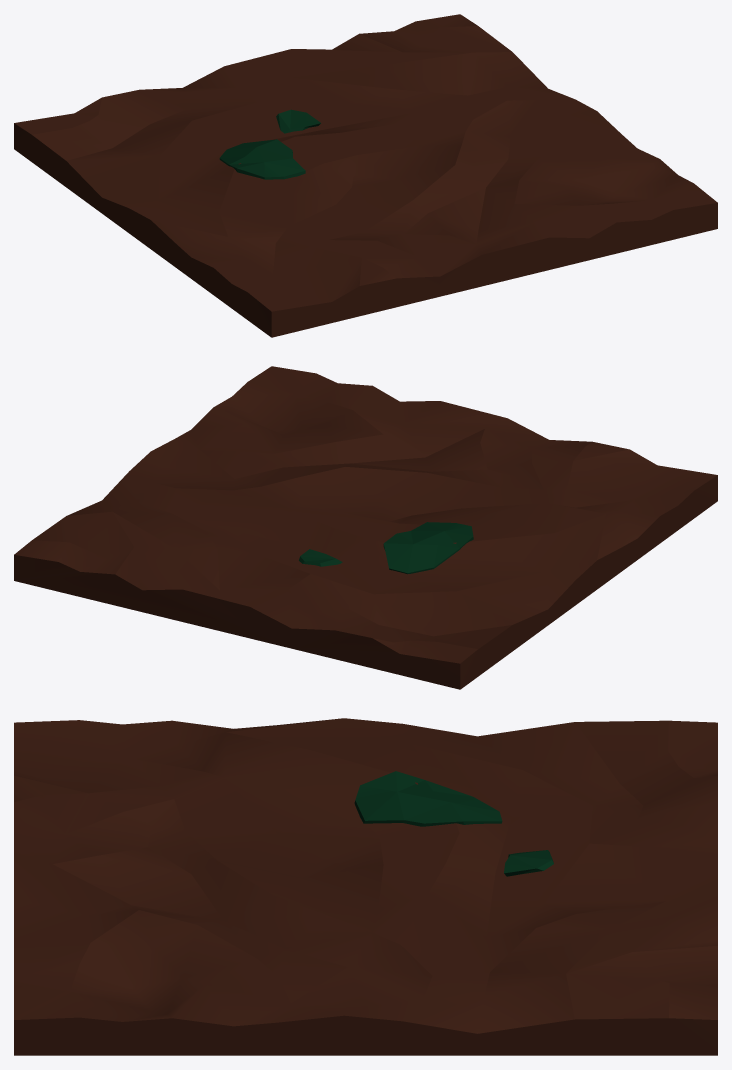
The model's file is Ground_Base_B.fbx.
3 views of the same model, one above another, from view 1: azimuth 30°, elevation 25°; view 2: azimuth 150°, elevation 25°; view 3: azimuth 270°, elevation 25° (orthographic). The views are drawn at different scales.
Parts seen in each view (by area): view 1: Ground_Base_B; view 2: Ground_Base_B; view 3: Ground_Base_B.
Part boxes in pixels (left/top/right/bottom): Ground_Base_B: left=14, top=14, right=717, bottom=337; Ground_Base_B: left=14, top=366, right=717, bottom=689; Ground_Base_B: left=14, top=718, right=717, bottom=1055.
Bounding box in the file's own units: 147 × 13.11 × 147.
